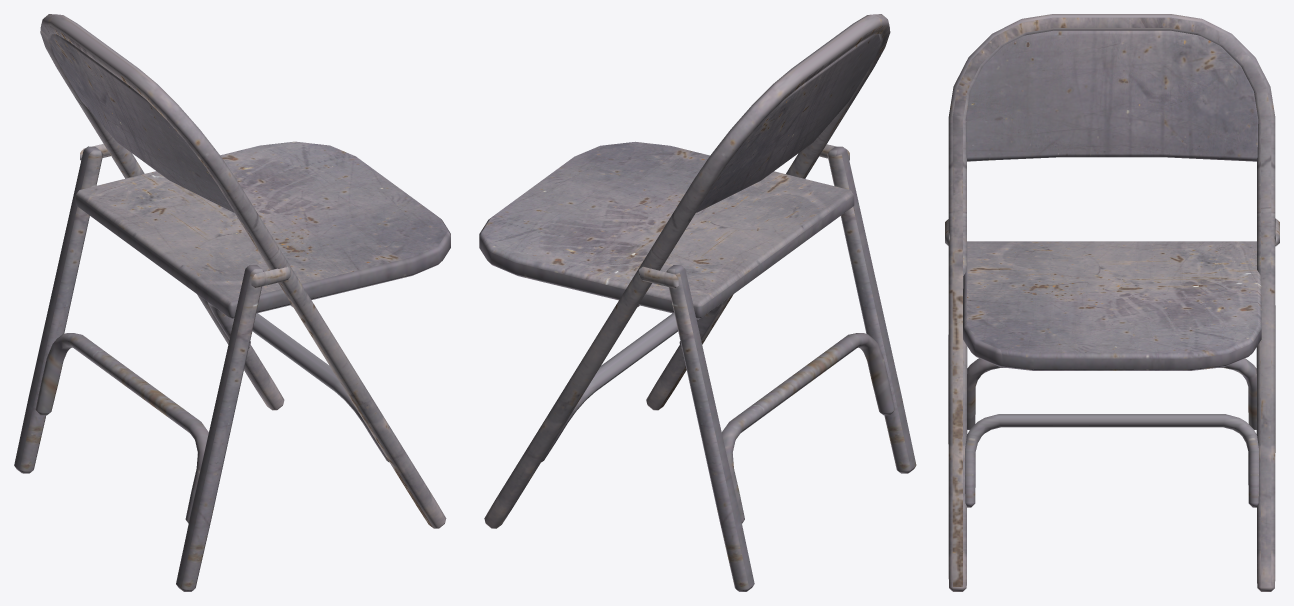
File: SM_Chair02.fbx
The picture shows the model from 3 angles, left to right: view 1: azimuth 30°, elevation 25°; view 2: azimuth 150°, elevation 25°; view 3: azimuth 270°, elevation 25°; orthographic projection. The views are drawn at different scales.
Parts seen in each view (by area): view 1: SM_Chair_01; view 2: SM_Chair_01; view 3: SM_Chair_01.
Part boxes in pixels (box(x1,y1,x2,y2)): SM_Chair_01: box(14, 14, 450, 591); SM_Chair_01: box(479, 14, 916, 591); SM_Chair_01: box(945, 14, 1279, 591).
Size of the model in its own units: 78.09 by 119 by 77.76.
